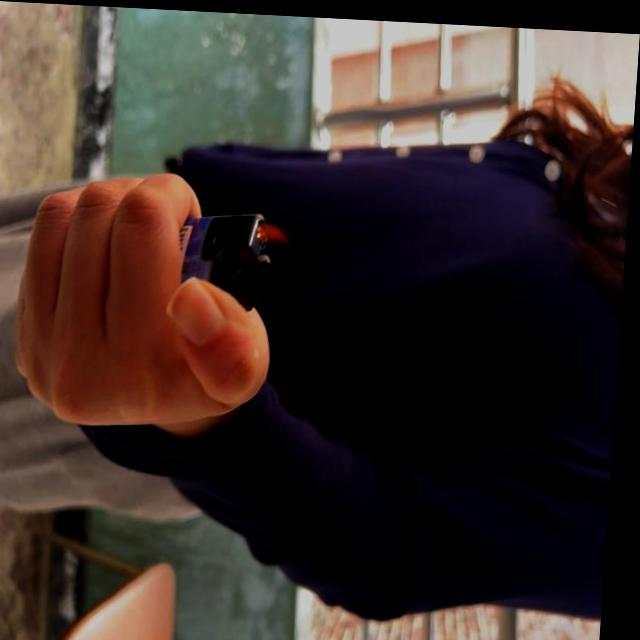Fire: (257, 214, 298, 249)
